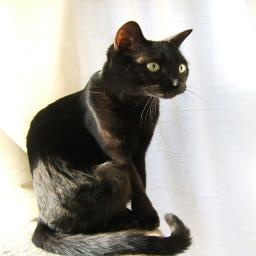catnose: (168, 77, 184, 89)
